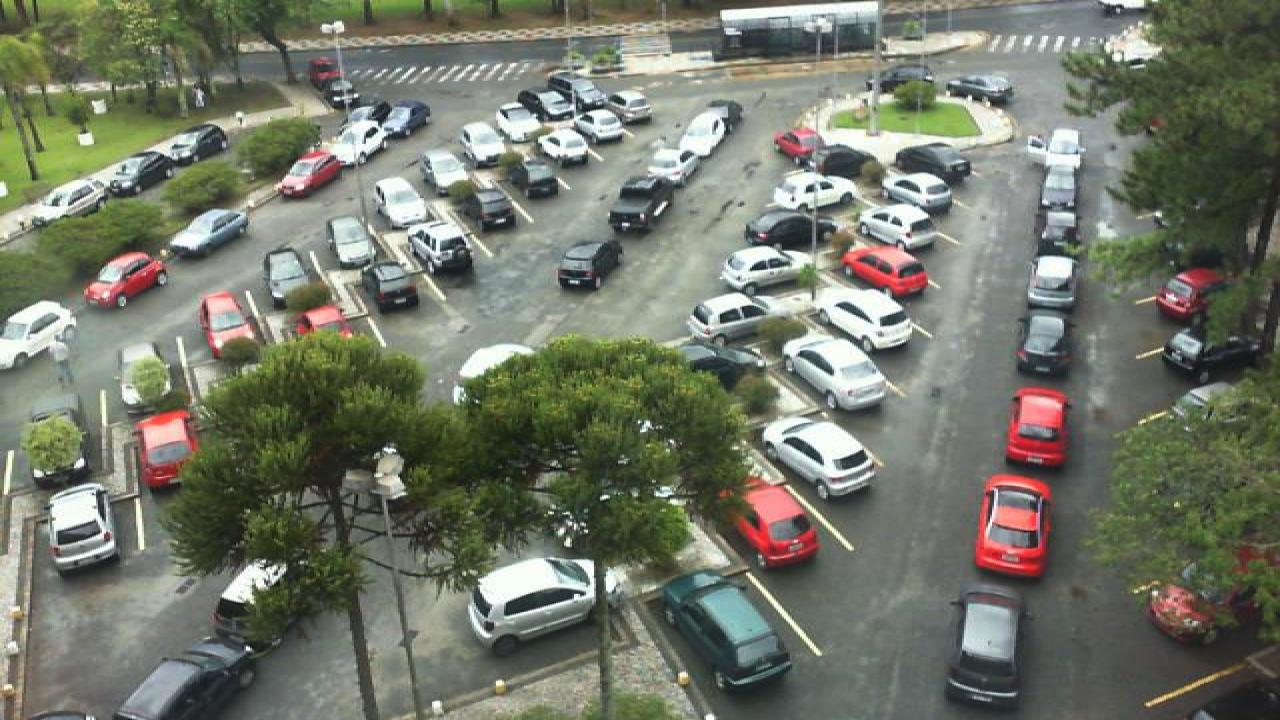Car: (658, 567, 792, 689), (462, 555, 622, 657), (112, 639, 264, 720), (944, 587, 1034, 708), (758, 416, 880, 501), (722, 475, 822, 568), (970, 474, 1056, 577), (778, 336, 890, 413), (44, 481, 122, 574), (820, 286, 920, 353), (208, 568, 280, 650), (684, 290, 782, 350), (0, 300, 78, 374), (132, 408, 202, 490), (1004, 386, 1072, 466), (1144, 584, 1228, 647), (838, 243, 934, 298), (82, 250, 170, 308), (162, 207, 252, 261), (1160, 324, 1244, 381), (606, 176, 682, 235), (718, 246, 814, 292), (856, 201, 942, 252), (198, 289, 260, 359), (1152, 267, 1228, 324), (402, 220, 476, 278), (1014, 315, 1078, 379), (768, 172, 860, 215), (556, 239, 626, 294), (96, 152, 178, 198), (260, 246, 318, 310), (274, 145, 344, 198), (674, 344, 748, 394), (878, 170, 960, 215), (744, 210, 828, 252), (326, 117, 394, 167), (892, 141, 974, 182), (34, 178, 110, 222), (1020, 252, 1078, 309), (372, 174, 432, 228), (364, 260, 424, 313), (160, 121, 230, 164), (324, 215, 376, 269), (500, 153, 562, 198), (1026, 127, 1086, 173), (534, 124, 594, 170), (644, 140, 704, 185), (804, 144, 874, 182), (434, 162, 490, 208), (942, 71, 1016, 105), (674, 106, 730, 150), (500, 100, 558, 141), (374, 100, 432, 141), (288, 303, 350, 341), (544, 72, 604, 111), (456, 120, 508, 164), (568, 106, 626, 144), (1038, 204, 1080, 253), (598, 86, 656, 121), (866, 66, 934, 94), (1036, 164, 1080, 207), (772, 125, 822, 161), (322, 78, 364, 112), (308, 56, 346, 87)
